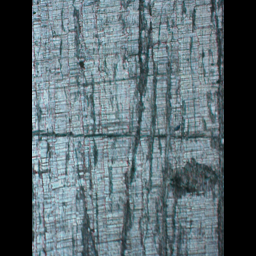d: (166, 153, 223, 200)
